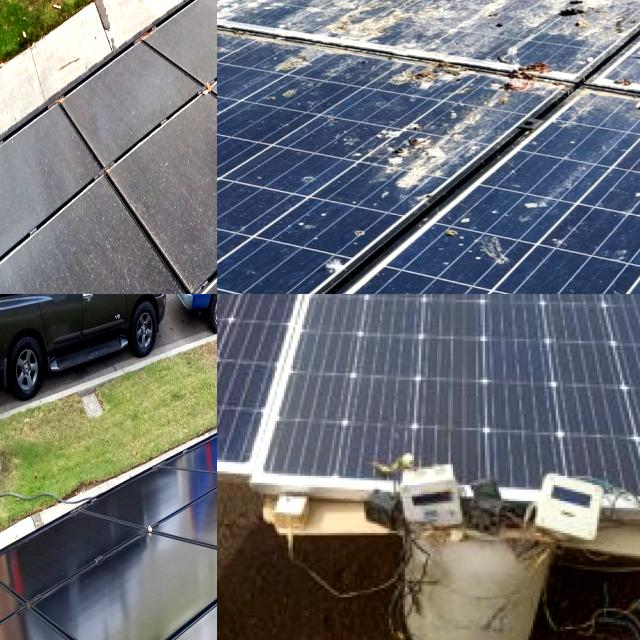bird: (365, 98, 483, 196), (510, 171, 640, 249), (288, 222, 389, 294), (227, 50, 325, 116), (274, 245, 391, 294), (394, 0, 490, 44), (217, 0, 303, 49), (514, 0, 596, 51), (278, 0, 372, 44), (600, 55, 640, 137), (217, 152, 264, 219)
dust: (320, 364, 640, 479), (350, 294, 640, 342), (217, 294, 319, 397), (28, 194, 115, 294), (177, 104, 217, 277)
